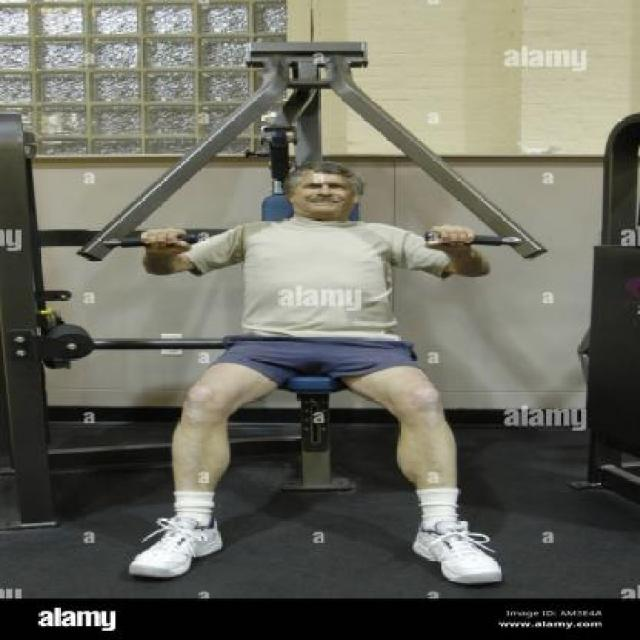Chest Press machine: (17, 35, 571, 597)
